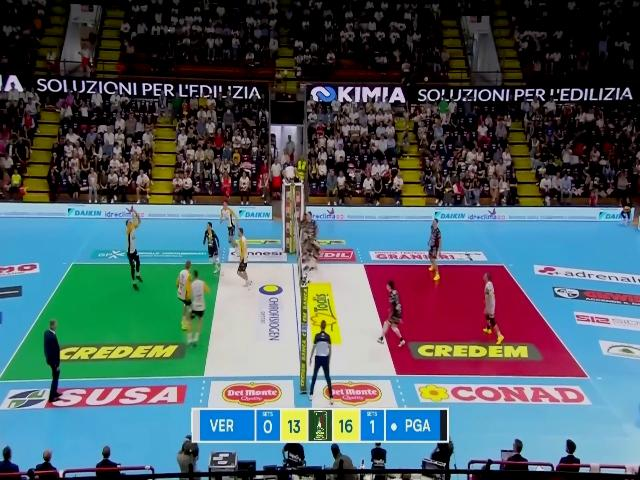volleyball court: (0, 265, 590, 380)
